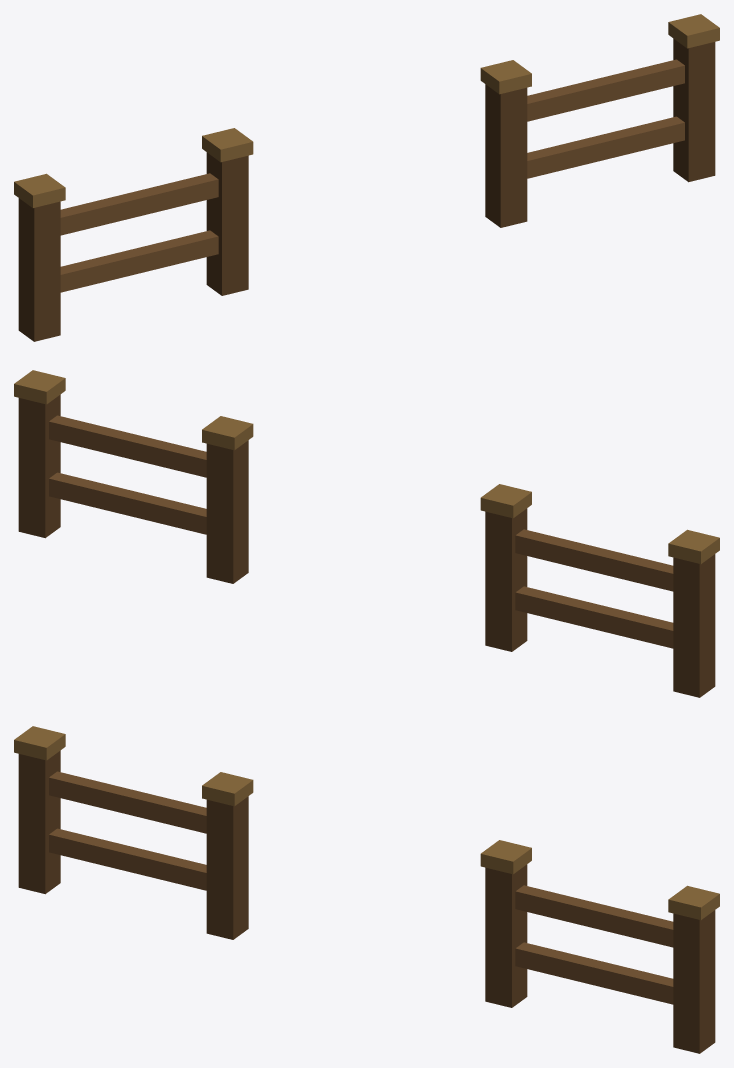
Rendered from greenhaven-fence-gate.glb.
3 renders of one model, top to bottom at view 1: azimuth 30°, elevation 25°; view 2: azimuth 150°, elevation 25°; view 3: azimuth 330°, elevation 25°, orthographic.
Parts seen in each view (by area): view 1: Greenhaven_LowTimberGate; view 2: Greenhaven_LowTimberGate; view 3: Greenhaven_LowTimberGate.
Boxes of the visible parts, <box> form: Greenhaven_LowTimberGate: <box>14,14,719,341</box>; Greenhaven_LowTimberGate: <box>14,370,719,697</box>; Greenhaven_LowTimberGate: <box>14,726,719,1053</box>.
Size of the model in its own units: 5.67 by 1.17 by 0.27.
